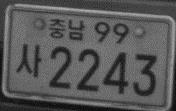2: (47, 44, 73, 89), (75, 47, 101, 91)
3: (131, 52, 158, 97)
4: (101, 50, 130, 95)
9: (112, 21, 129, 45), (93, 20, 110, 43)
사: (14, 42, 42, 78)
충남_H: (47, 17, 85, 41)
